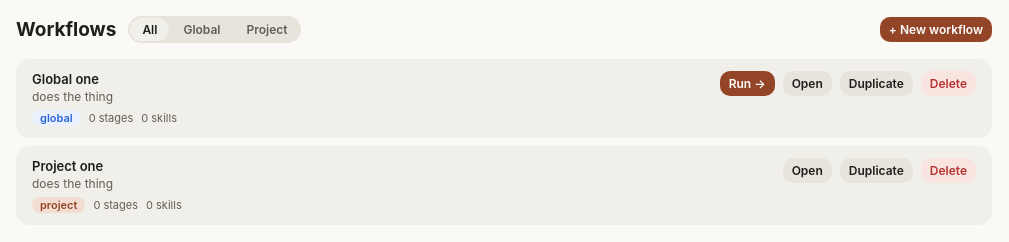
Test: WorkflowsView (SCR-01) › scope filter narrows the list to a single scope
The image size is (1009, 242).
Expected: the element with test id "workflow-row-g" is shown, [16,59,992,138]
Expected: the element with test id "workflow-row-p" is shown, [16,146,992,225]
# Switch to "Project" → only the project workflow remains.
Click the radio button labelled "Project". click: click(267, 30)
box: [234,18,300,41]
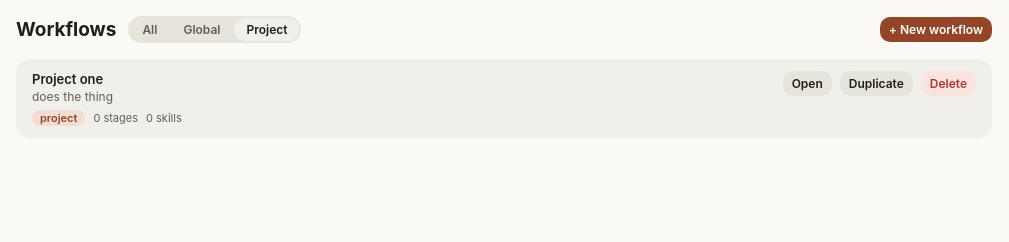
Expected: the element with test id "workflow-row-p" is shown, [16,59,992,138]
Result: the element with test id "workflow-row-g" is gone
